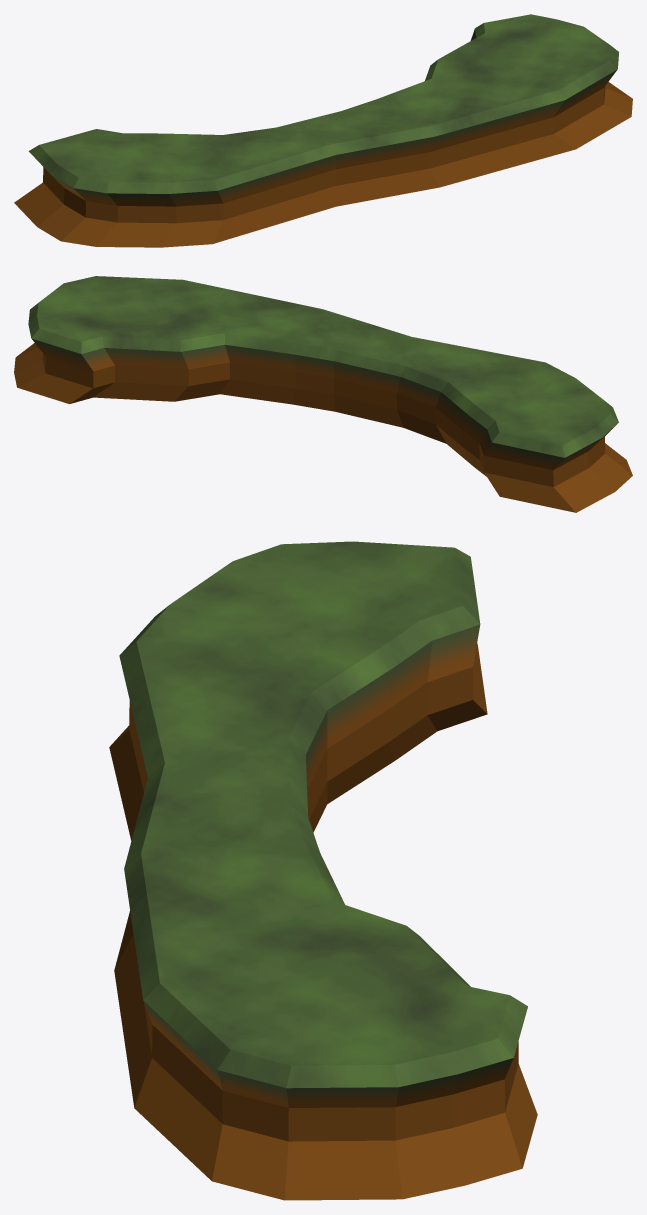
File: E6_Terreno_Lvl1_T.fbx
The picture shows the model from 3 angles, top to bottom: view 1: azimuth 30°, elevation 25°; view 2: azimuth 150°, elevation 25°; view 3: azimuth 270°, elevation 25°; orthographic projection. The views are drawn at different scales.
Parts seen in each view (by area): view 1: E6_modelosBlockout_nivel1; view 2: E6_modelosBlockout_nivel1; view 3: E6_modelosBlockout_nivel1.
Part boxes in pixels (x1,y1,x2,y2): E6_modelosBlockout_nivel1: [14, 14, 632, 247]; E6_modelosBlockout_nivel1: [14, 276, 632, 512]; E6_modelosBlockout_nivel1: [109, 541, 537, 1200].
Size of the model in its own units: 12937 by 1225 by 4151.
